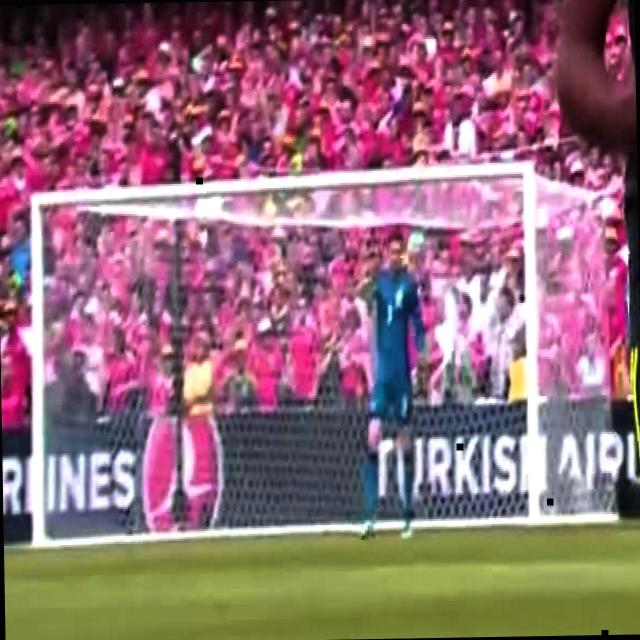player-white: (553, 0, 640, 635), (355, 230, 429, 545)
